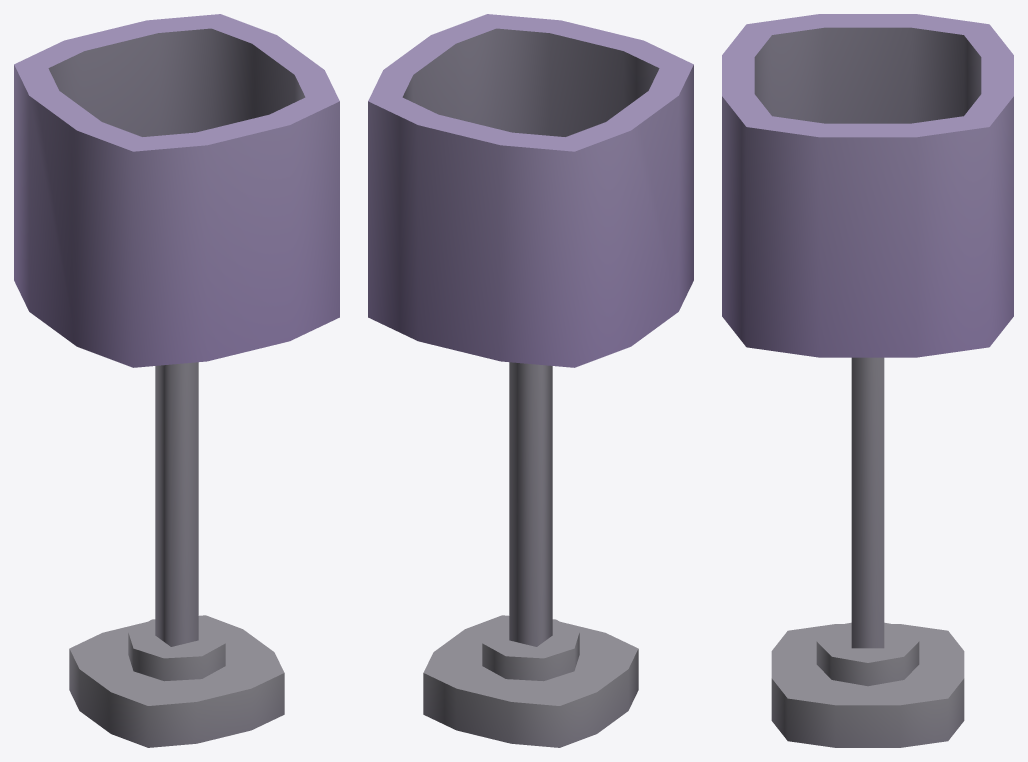
Rendered from lamp-straight-table.glb.
The picture shows the model from 3 angles, left to right: view 1: azimuth 30°, elevation 25°; view 2: azimuth 150°, elevation 25°; view 3: azimuth 270°, elevation 25°; orthographic projection.
Parts seen in each view (by area): view 1: lamp-straight-table; view 2: lamp-straight-table; view 3: lamp-straight-table.
Part boxes in pixels (box(x1,y1,x2,y2)): lamp-straight-table: box(14, 14, 339, 747); lamp-straight-table: box(368, 14, 693, 747); lamp-straight-table: box(722, 14, 1013, 747).
Size of the model in its own units: 0.225 by 0.5375 by 0.225.
